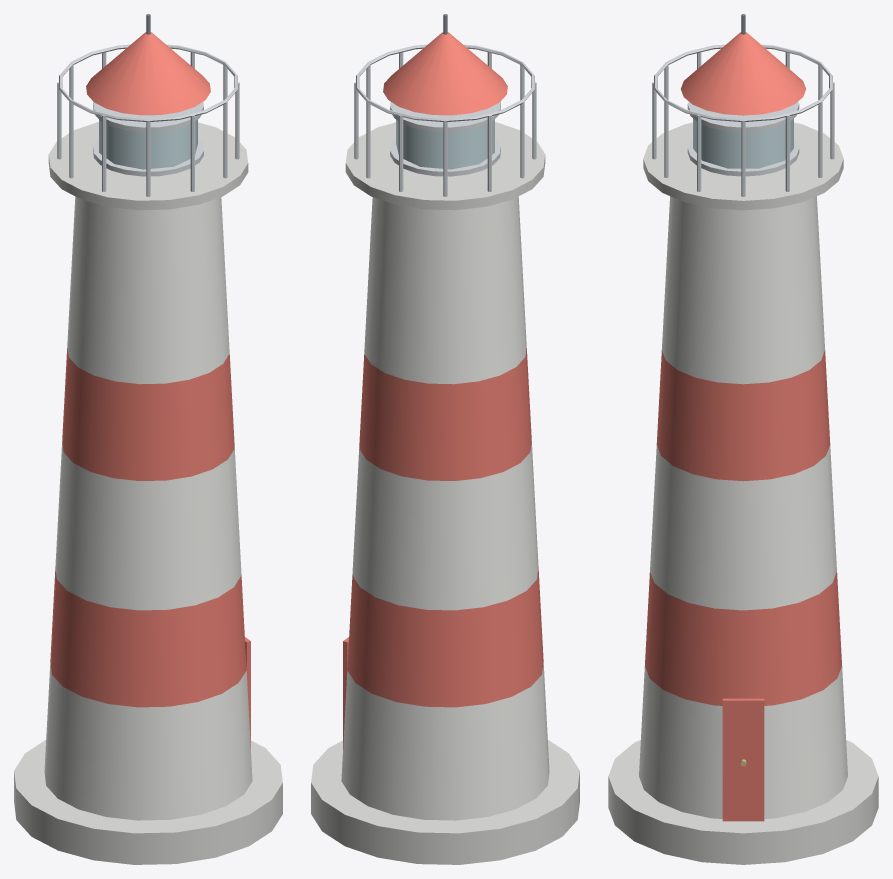
File: Lighthouse.fbx
The picture shows the model from 3 angles, left to right: view 1: azimuth 30°, elevation 25°; view 2: azimuth 150°, elevation 25°; view 3: azimuth 270°, elevation 25°; orthographic projection.
Parts seen in each view (by area): view 1: LOD0; view 2: LOD0; view 3: LOD0.
Part boxes in pixels (<box>): LOD0: <box>14,14,282,864</box>; LOD0: <box>311,14,579,864</box>; LOD0: <box>608,14,878,864</box>.
Size of what is drawn, in the model's own units: 310 by 1004 by 310.
